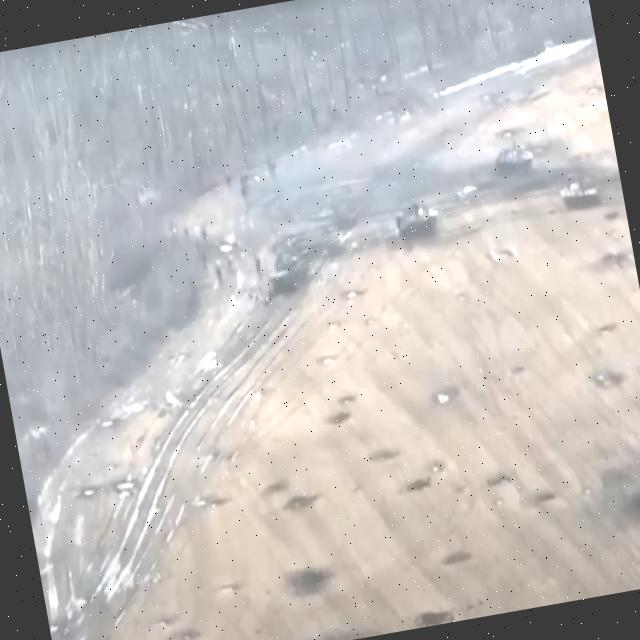AIFV: (392, 195, 445, 244), (492, 139, 539, 184), (558, 174, 604, 215)
MBT: (264, 243, 322, 301)
